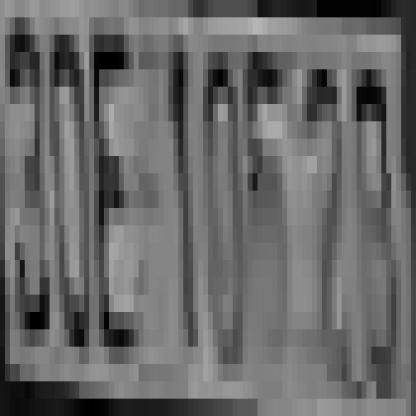3: (10, 17, 54, 347)
E: (94, 35, 144, 329)
